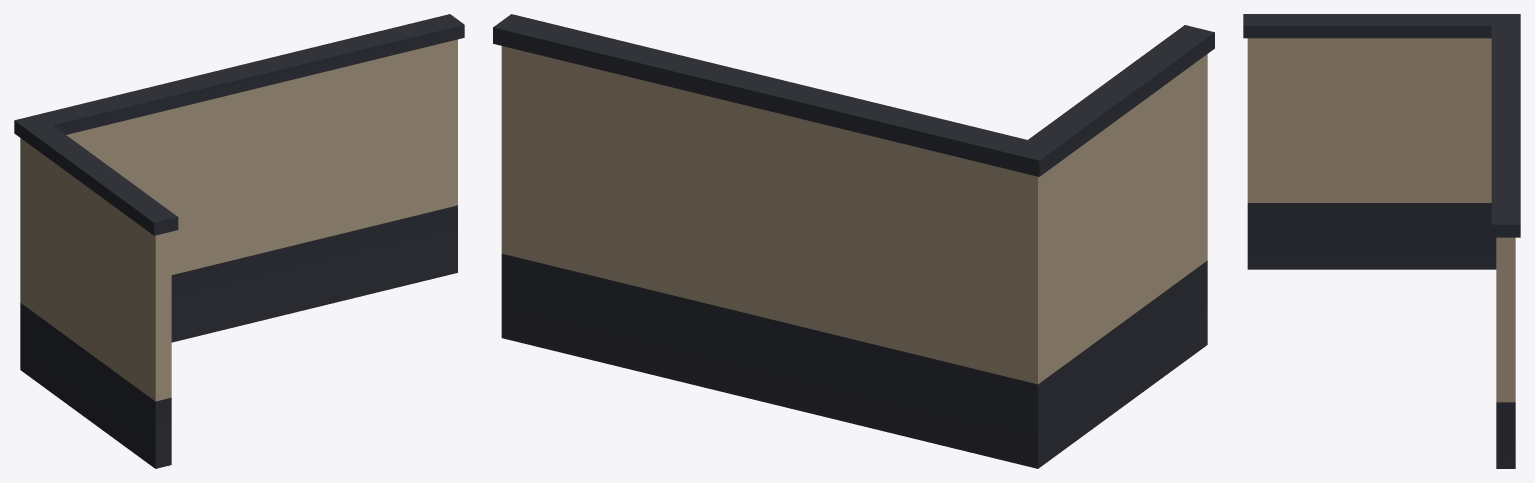
Rendered from Divider.fbx.
3 renders of one model, left to right at view 1: azimuth 30°, elevation 25°; view 2: azimuth 150°, elevation 25°; view 3: azimuth 270°, elevation 25°, orthographic. The views are drawn at different scales.
Parts seen in each view (by area): view 1: Divider; view 2: Divider; view 3: Divider.
Boxes of the visible parts, x1=… form: Divider: x1=14, y1=14, x2=464, y2=468; Divider: x1=493, y1=14, x2=1214, y2=468; Divider: x1=1243, y1=14, x2=1520, y2=468.
Bounding box in the file's own units: 357 × 194 × 199.
